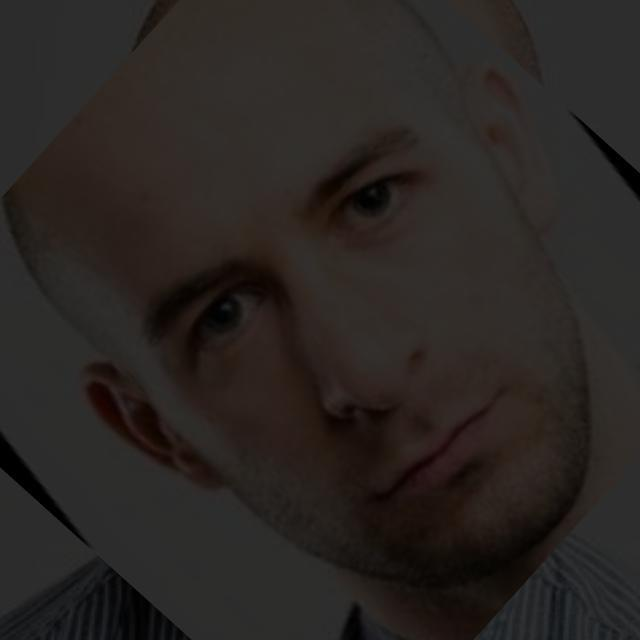Natural: (82, 122, 585, 564)
